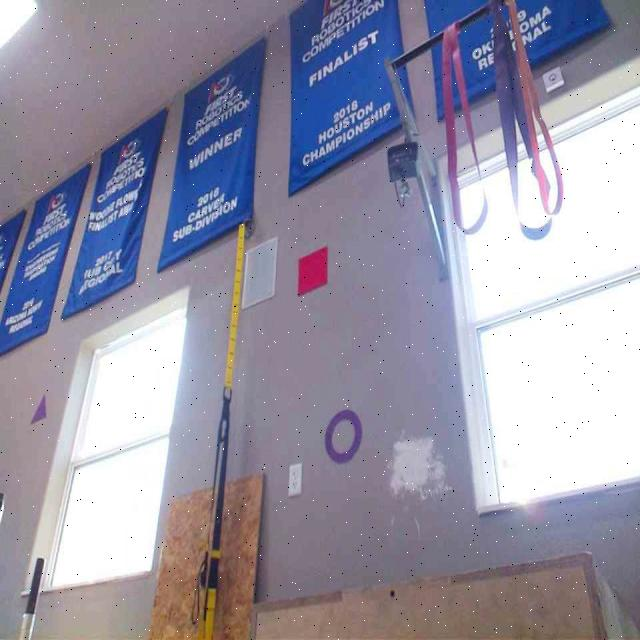ring_purple: (325, 406, 363, 462)
square_red: (296, 243, 328, 296)
triangle_purple: (31, 393, 48, 422)
